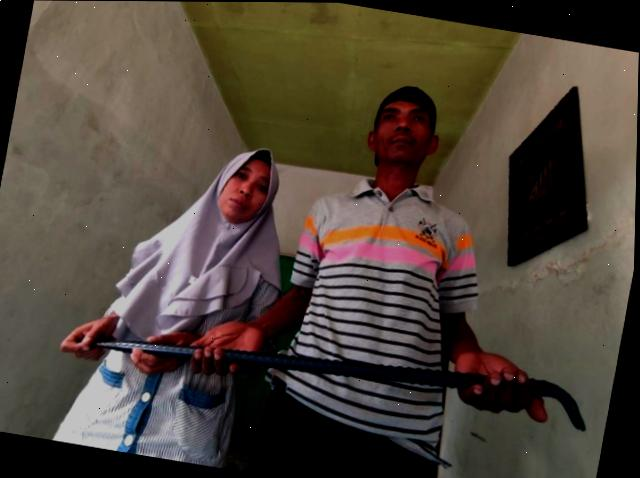crow bar: (99, 337, 587, 430)
